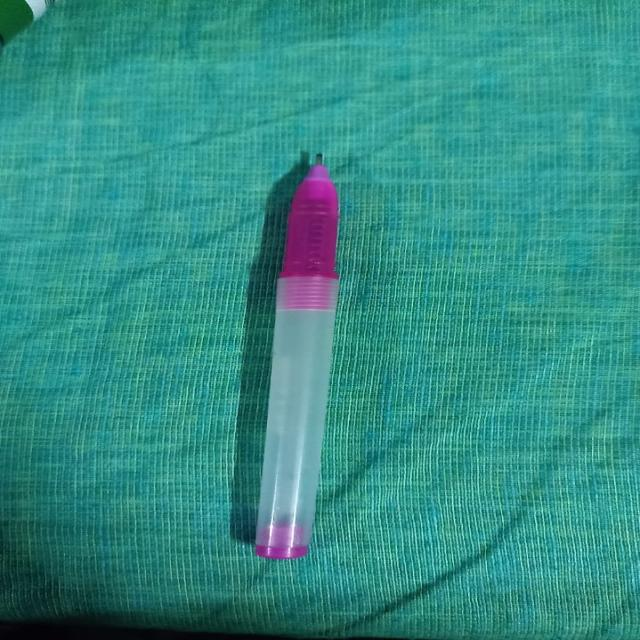pen: (232, 146, 360, 564)
